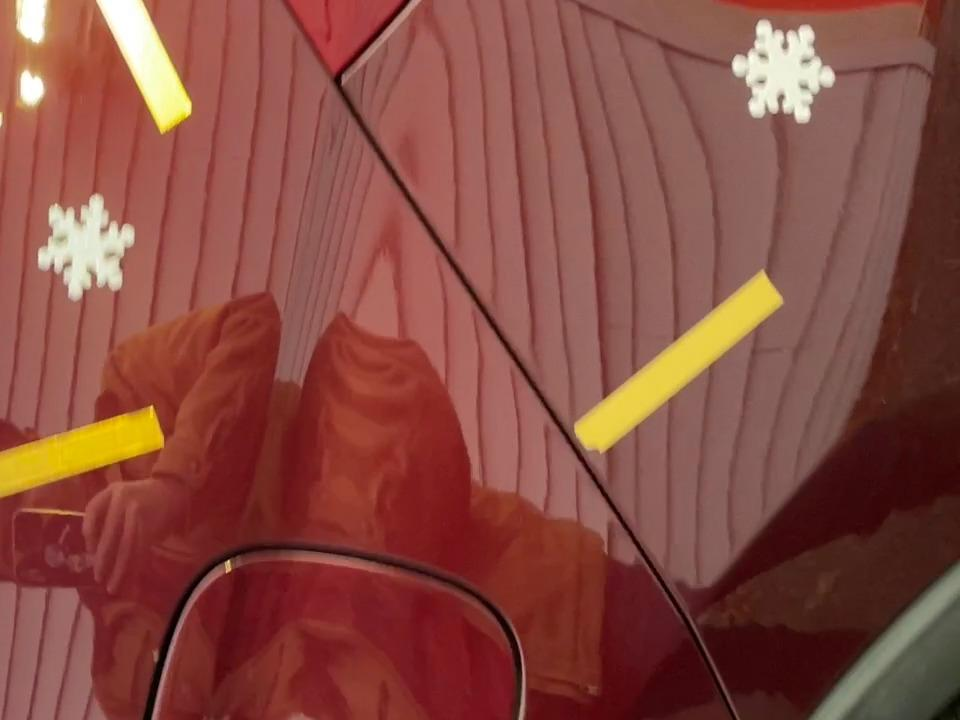dent: (714, 9, 854, 138), (36, 179, 148, 312)
scratch: (551, 256, 797, 464), (0, 398, 174, 520), (0, 93, 19, 273)
